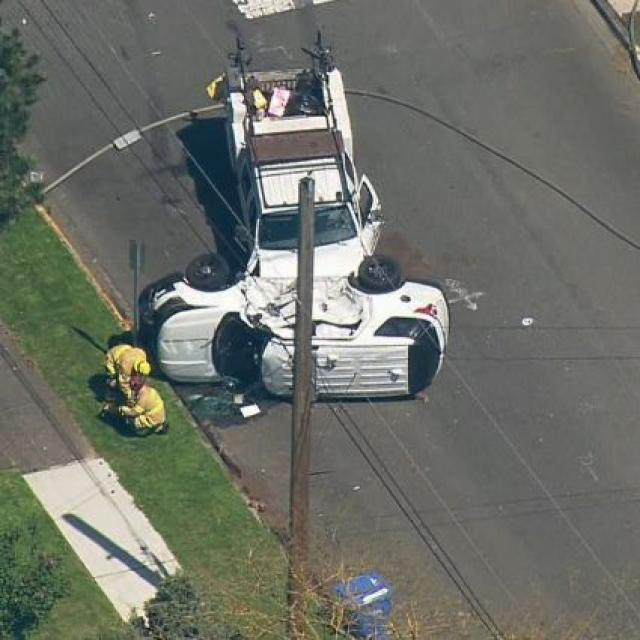traffic_incident: (140, 47, 455, 410)
